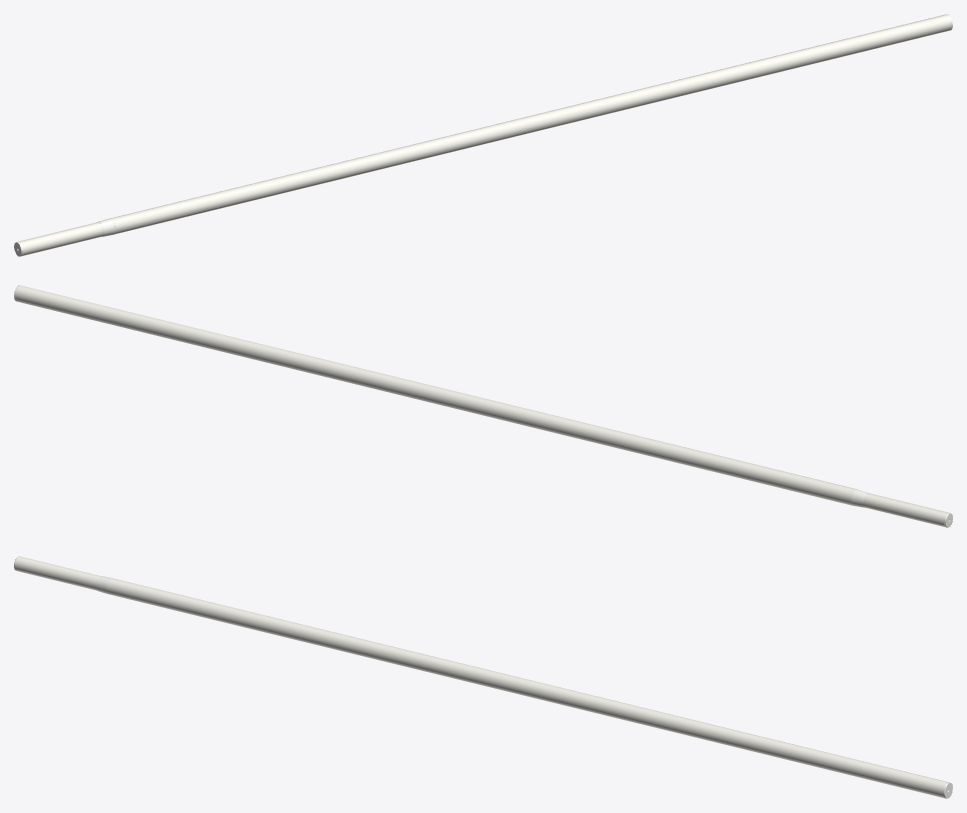
The picture shows the model from 3 angles, top to bottom: view 1: azimuth 30°, elevation 25°; view 2: azimuth 150°, elevation 25°; view 3: azimuth 330°, elevation 25°; orthographic projection.
Visible parts, largest first — view 1: model; view 2: model; view 3: model.
Part boxes in pixels (bbox=[...]): model: bbox=[14, 14, 952, 256]; model: bbox=[14, 285, 952, 527]; model: bbox=[14, 556, 952, 798].
Bounding box in the file's own units: 1.8 × 0.0281 × 0.0288.
1 material, 1 textured.
